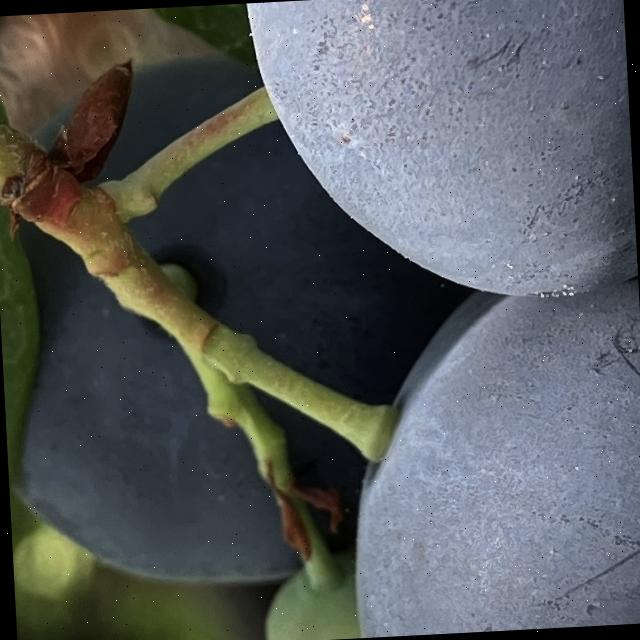Blueberries: (233, 0, 639, 313), (330, 252, 640, 639)
